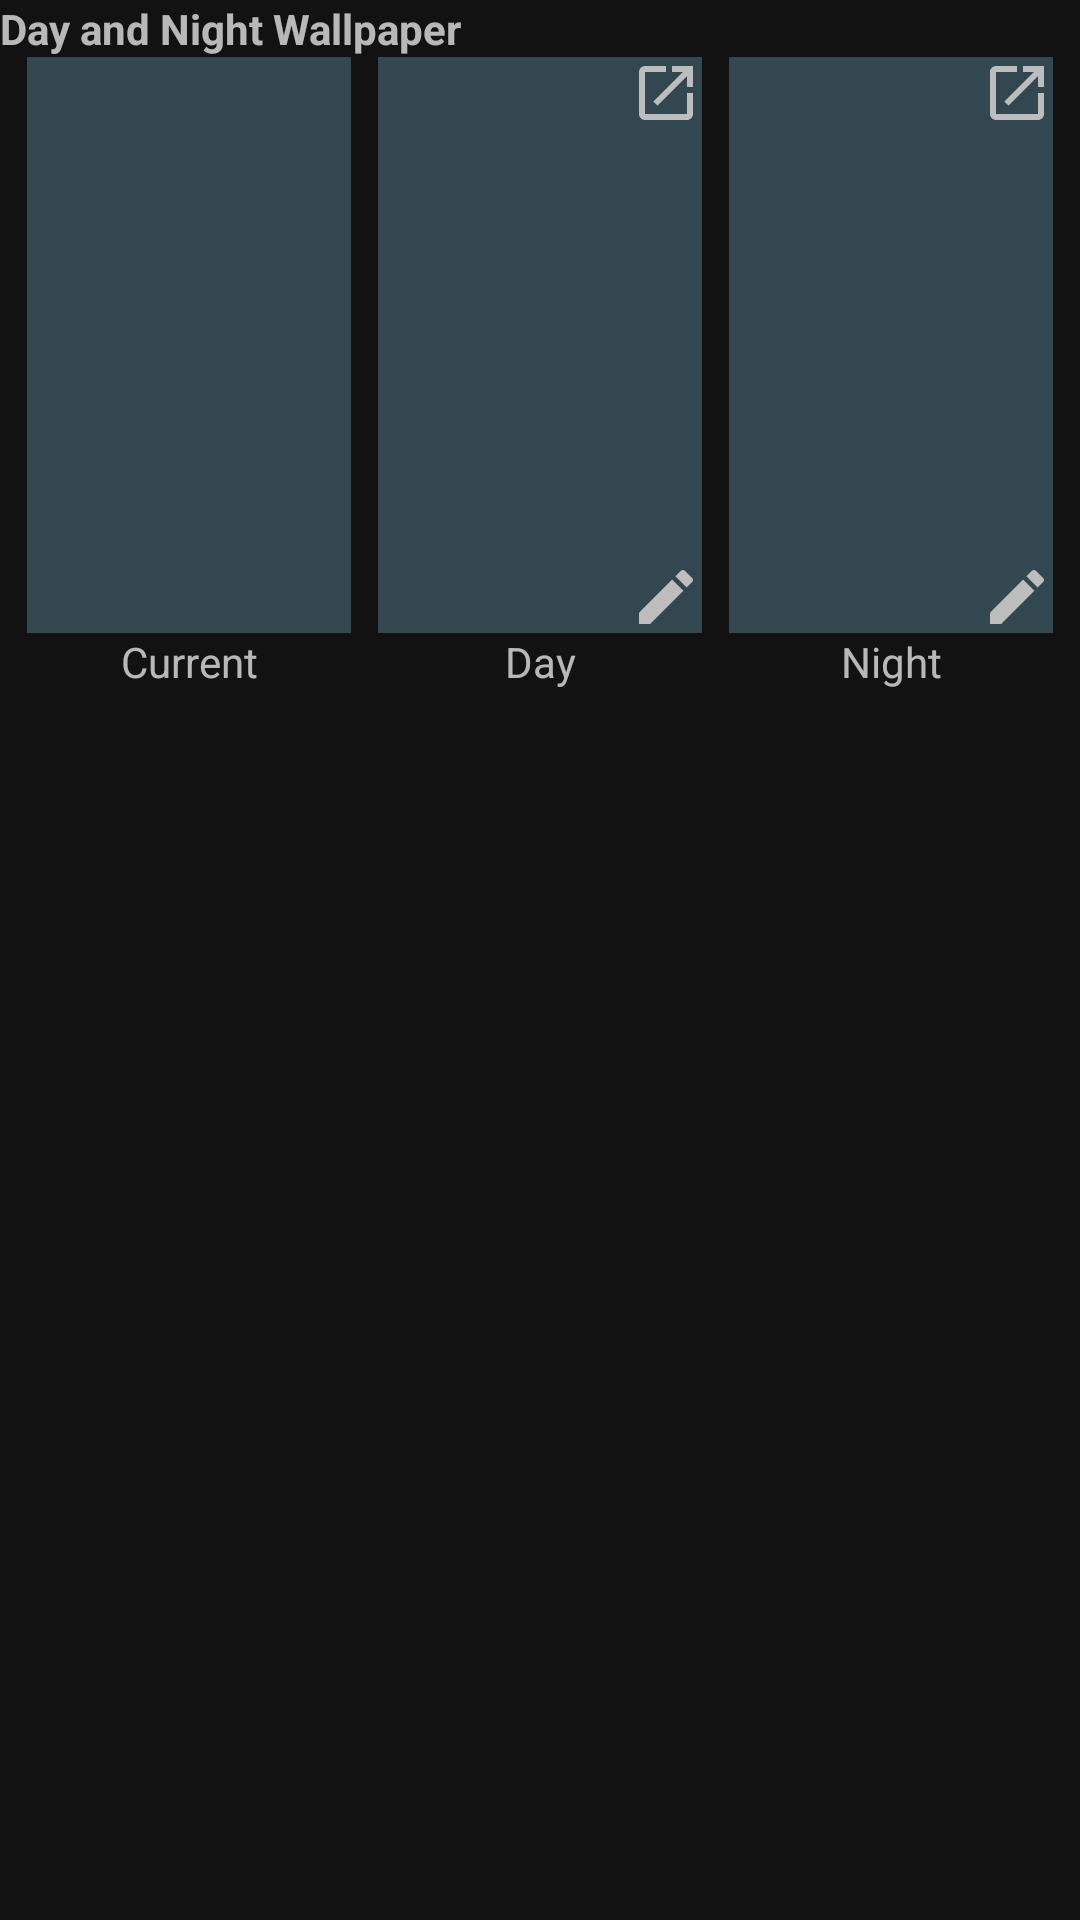

Icon click points for this 1080px x 1920px phone screenshot, format point (x, y):
edit: point (666, 597), point (1017, 597)
launch toggle: point (666, 93), point (1017, 93)
